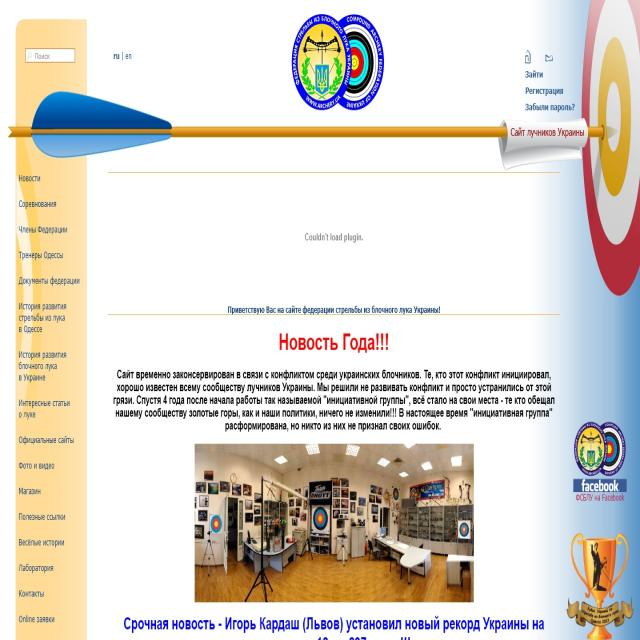button: (540, 48, 558, 64), (522, 48, 534, 66), (122, 46, 134, 62), (113, 48, 122, 64)
field: (26, 46, 76, 63)
heading: (277, 329, 390, 360)
image: (3, 94, 596, 174), (15, 19, 86, 640), (196, 443, 474, 601), (580, 1, 640, 298), (288, 13, 386, 112), (568, 530, 636, 640), (570, 416, 628, 504)
label: (34, 49, 51, 62)
link: (523, 100, 576, 114), (523, 84, 569, 96), (523, 68, 549, 81)
text: (110, 367, 556, 433), (115, 611, 554, 640), (227, 304, 442, 316), (508, 117, 584, 146), (15, 298, 69, 336), (16, 349, 70, 384), (16, 395, 72, 421), (16, 217, 70, 242), (16, 429, 74, 448), (17, 271, 81, 288), (305, 230, 365, 247), (15, 164, 54, 189), (16, 190, 58, 212), (16, 508, 66, 525), (17, 534, 66, 551), (14, 457, 55, 474), (15, 586, 49, 606), (17, 249, 65, 262), (14, 482, 45, 502), (17, 562, 58, 577), (15, 612, 58, 626)
